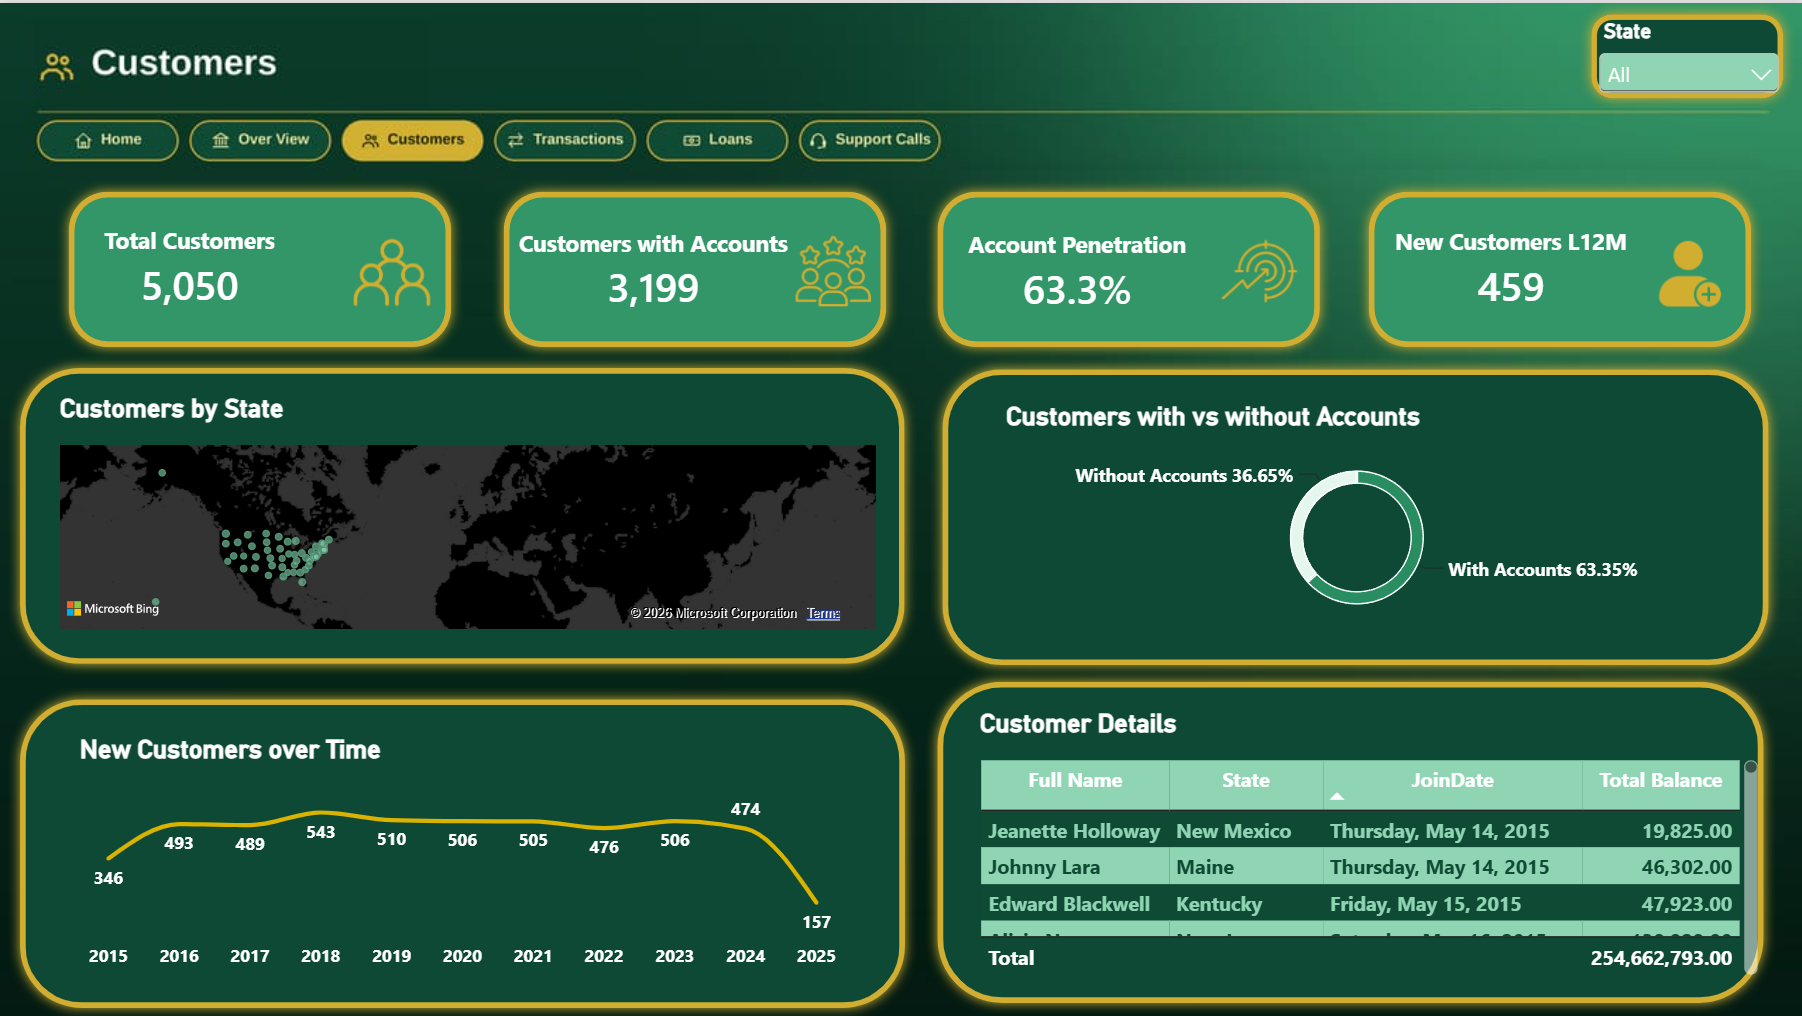

What the dashboard file says about the page in this screenshot:
{"tool":"powerbi","page":{"name":"Customers","canvas":[1280,720],"ordinal":2},"visuals":[{"type":"shape","box":[1119.7,0,152,75.5],"z":0},{"type":"actionButton","box":[134.7,80.6,99.2,32.8],"z":1000},{"type":"actionButton","box":[26.6,80.6,99.2,32.8],"z":2000},{"type":"actionButton","box":[351.7,80.6,99.2,32.8],"z":3000},{"type":"actionButton","box":[459.8,80.6,99.2,32.8],"z":4000},{"type":"actionButton","box":[565.2,80.6,99.2,32.8],"z":5000},{"type":"shape","box":[40.6,125.6,287,126],"z":6000},{"type":"shape","box":[962,125.6,287,126],"z":7000},{"type":"shape","box":[656.1,125.6,287,126],"z":8000},{"type":"shape","box":[349.3,125.6,287,126],"z":9000},{"type":"shape","box":[6.6,485.3,643.2,234.8],"z":10000},{"type":"shape","box":[656.5,473.1,601.4,243.6],"z":11000},{"type":"shape","box":[6.6,251.1,642.9,225.6],"z":12000},{"type":"shape","box":[660,251.6,601.4,225.6],"z":13000},{"type":"map","title":"Customers by State","fields":{"Category":["customers.State"],"Size":["_Measures.Total Customers"]},"box":[26.4,262.5,609.9,197.3],"z":14000},{"type":"lineChart","title":"New Customers over Time","fields":{"Category":["customers.Join Year"],"Y":["_Measures.Total Customers"]},"box":[40.6,504.1,574,200.1],"z":15000},{"type":"tableEx","title":"\tCustomer Details","fields":{"Values":["customers.Full Name","customers.State","customers.JoinDate","_Measures.Total Balance"]},"box":[678.6,485.5,582.9,218.8],"z":17000},{"type":"slicer","fields":{"Values":["customers.State"]},"box":[1128.7,11.5,137.3,53.2],"z":18000},{"type":"cardVisual","fields":{"Data":["_Measures.Total Customers"]},"box":[94.8,140,166.6,96.6],"z":18001},{"type":"cardVisual","fields":{"Data":["_Measures.Customers with Accounts"]},"box":[378.3,140.9,228.6,96.6],"z":18002},{"type":"cardVisual","fields":{"Data":["_Measures.Account Penetration %"]},"box":[685.7,140.9,228.6,96.6],"z":18003},{"type":"cardVisual","fields":{"Data":["_Measures.New Customers L12M"]},"box":[991.4,141.8,228.6,96.6],"z":18004},{"type":"donutChart","title":"Customers with vs without Accounts","fields":{"Category":["customers.Has Account"],"Y":["_Measures.Total Customers"]},"box":[697.2,267.6,528.9,186.9],"z":18005}]}

Visuals, with their boxes in screenshot pixels (x1, y1, x2, y2), scaled from the page's 1280x720 canvas onto the 1802x1016 screenshot:
shape: <box>1576,0,1790,107</box>
actionButton: <box>190,114,329,160</box>
actionButton: <box>37,114,177,160</box>
actionButton: <box>495,114,635,160</box>
actionButton: <box>647,114,787,160</box>
actionButton: <box>796,114,935,160</box>
shape: <box>57,177,461,355</box>
shape: <box>1354,177,1758,355</box>
shape: <box>924,177,1328,355</box>
shape: <box>492,177,896,355</box>
shape: <box>9,685,915,1015</box>
shape: <box>924,668,1771,1011</box>
shape: <box>9,354,914,673</box>
shape: <box>929,355,1776,673</box>
"Customers by State" map: <box>37,370,896,649</box>
"New Customers over Time" lineChart: <box>57,711,865,994</box>
"	Customer Details" tableEx: <box>955,685,1776,994</box>
slicer - customers.State: <box>1589,16,1782,91</box>
cardVisual - _Measures.Total Customers: <box>133,198,368,334</box>
cardVisual - _Measures.Customers with Accounts: <box>533,199,854,335</box>
cardVisual - _Measures.Account Penetration %: <box>965,199,1287,335</box>
cardVisual - _Measures.New Customers L12M: <box>1396,200,1718,336</box>
"Customers with vs without Accounts" donutChart: <box>982,378,1726,641</box>
